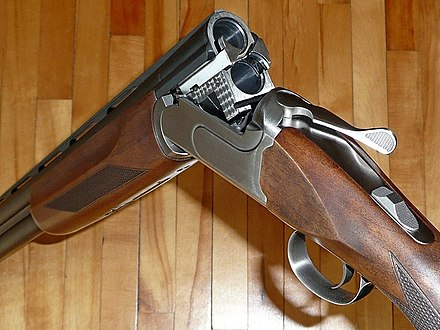weapon: (1, 9, 440, 330)
